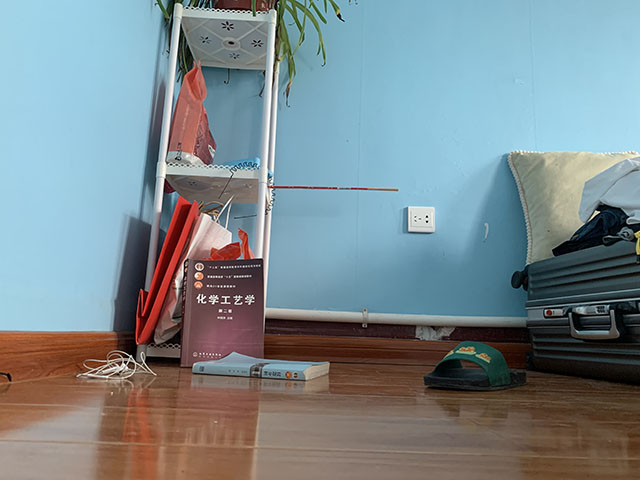book: (178, 258, 266, 368), (191, 351, 331, 381)
slippers: (422, 339, 528, 393)
wire: (74, 348, 158, 381)
